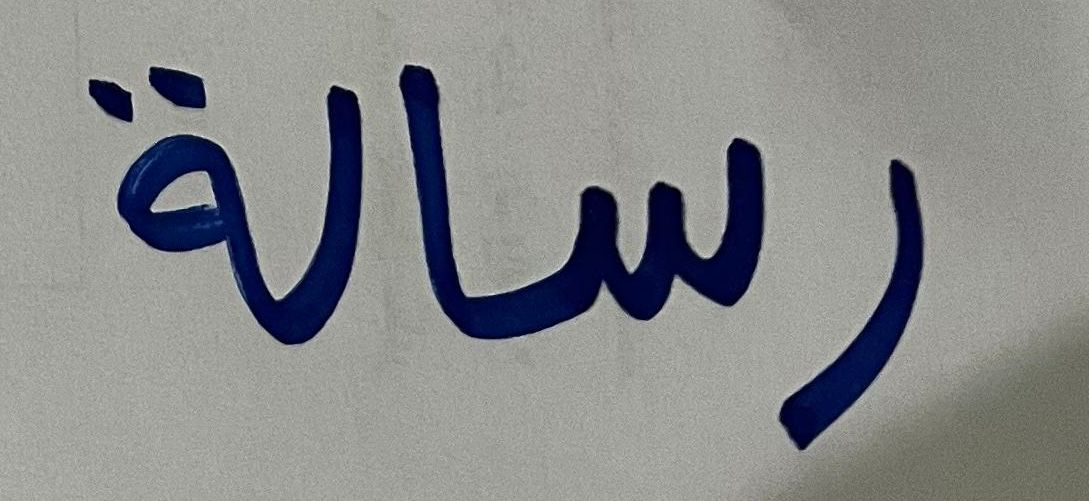alef: (385, 31, 479, 384)
lam: (270, 34, 371, 436)
reh: (776, 122, 964, 469)
seen: (501, 102, 773, 356)
teh_marbota: (65, 20, 260, 361)
